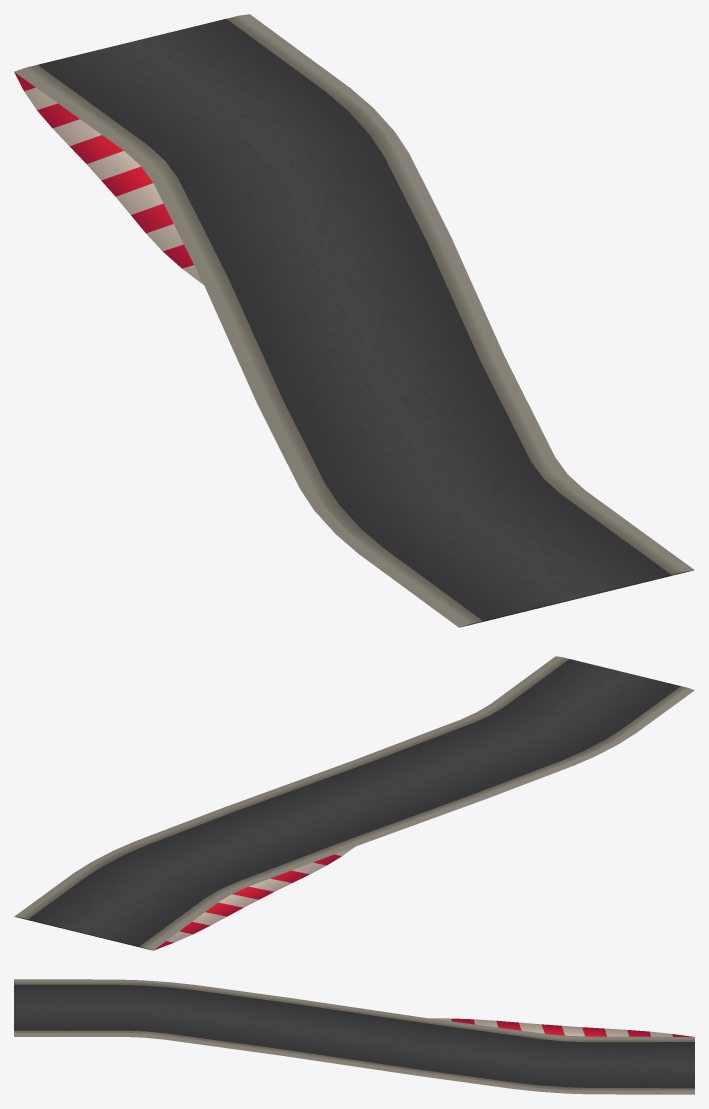
The model's file is Serpentine_1B_Long.glb.
The picture shows the model from 3 angles, top to bottom: view 1: azimuth 30°, elevation 25°; view 2: azimuth 150°, elevation 25°; view 3: azimuth 270°, elevation 25°; orthographic projection. The views are drawn at different scales.
Parts seen in each view (by area): view 1: Serpentine_1B_Long; view 2: Serpentine_1B_Long; view 3: Serpentine_1B_Long.
Part boxes in pixels (x1,y1,x2,y2): Serpentine_1B_Long: (14, 14, 694, 627); Serpentine_1B_Long: (14, 656, 694, 950); Serpentine_1B_Long: (14, 979, 694, 1094).
Size of the model in its own units: 40 by 0.1 by 100.
Materials: 1 (1 with a texture image).
